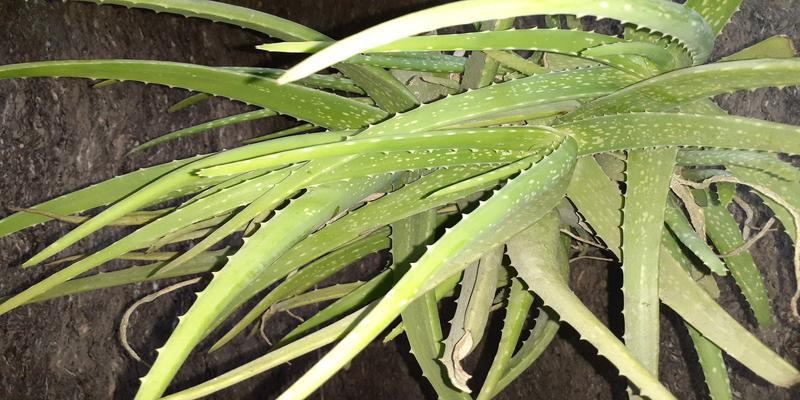Aloevera: (162, 26, 751, 331)
